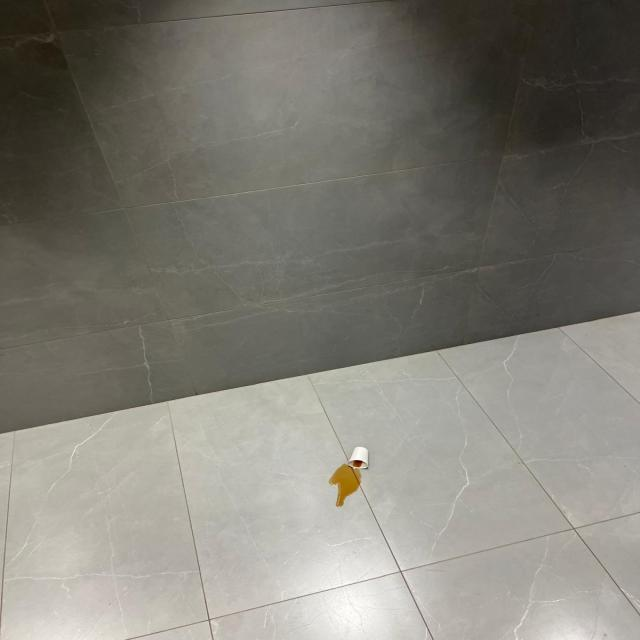cup: (346, 445, 371, 469)
spill: (331, 464, 356, 506)
